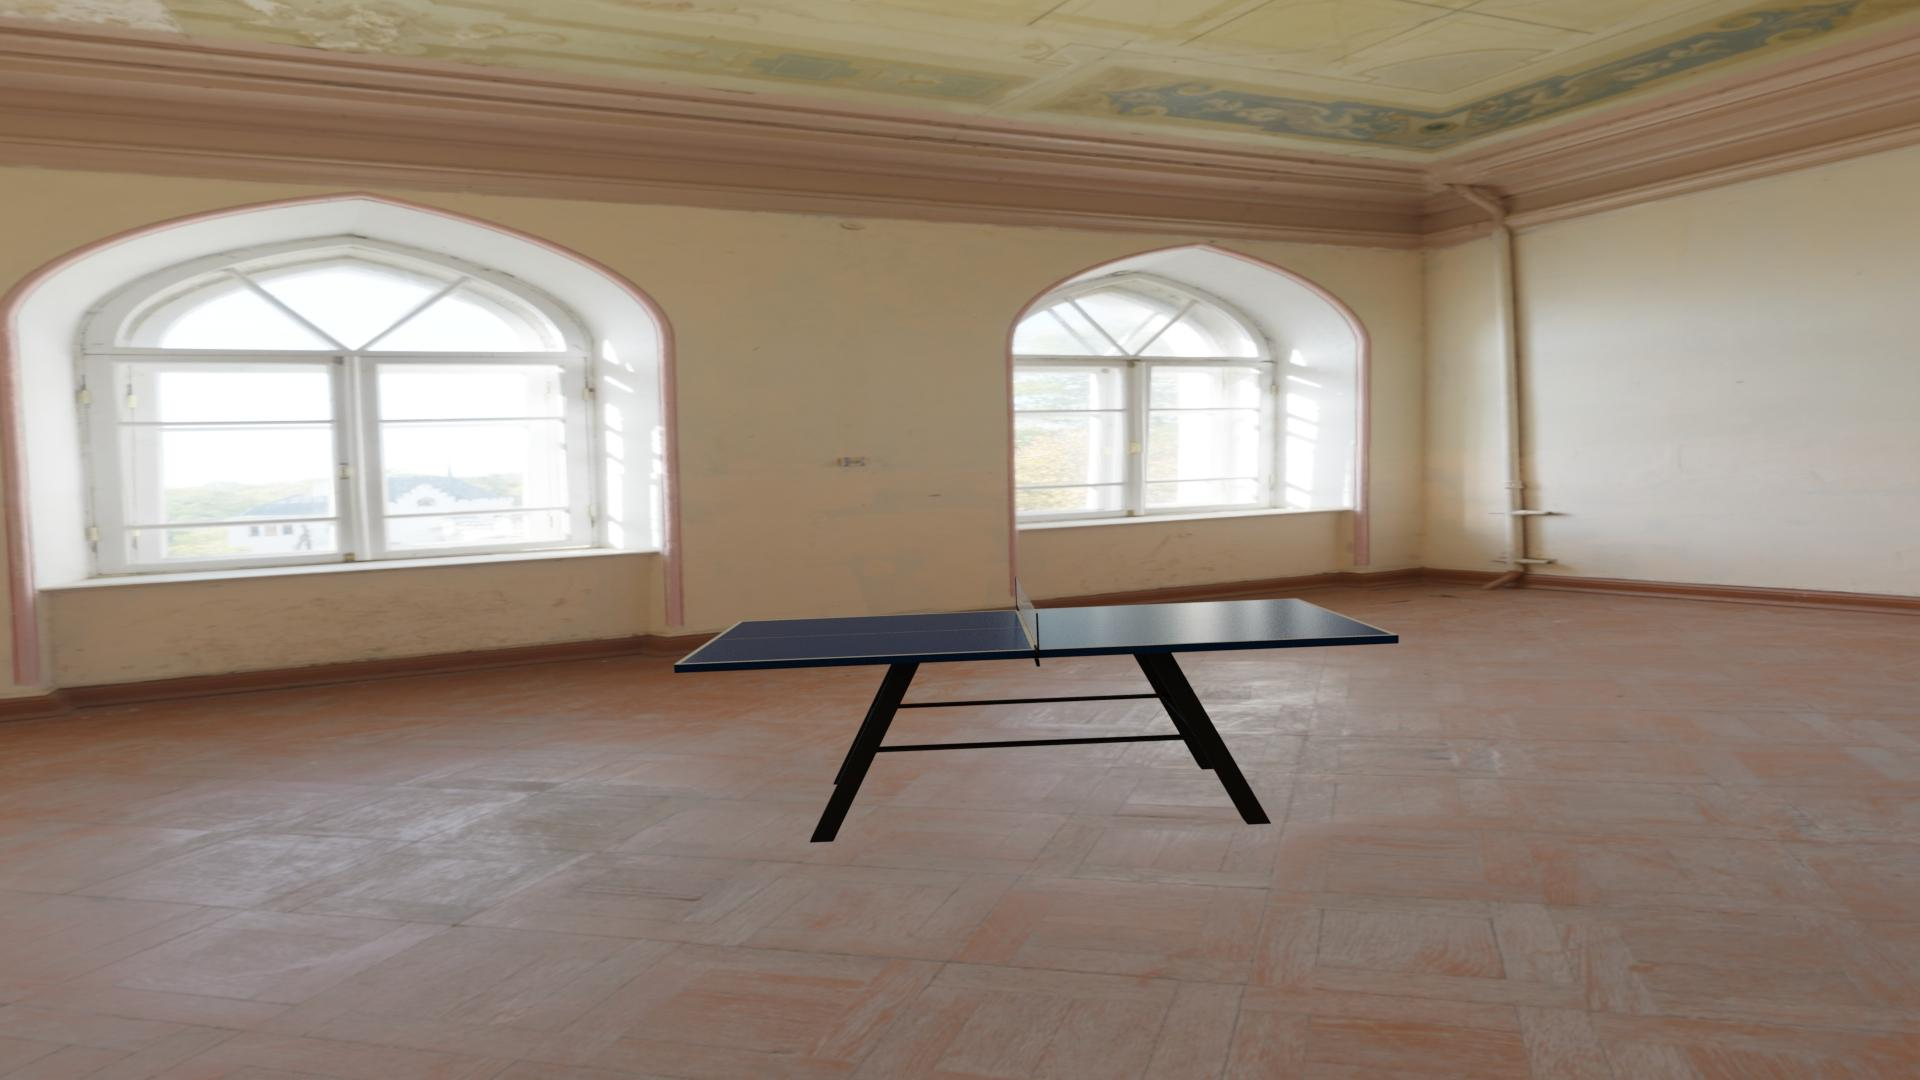table: (680, 599, 1393, 663)
